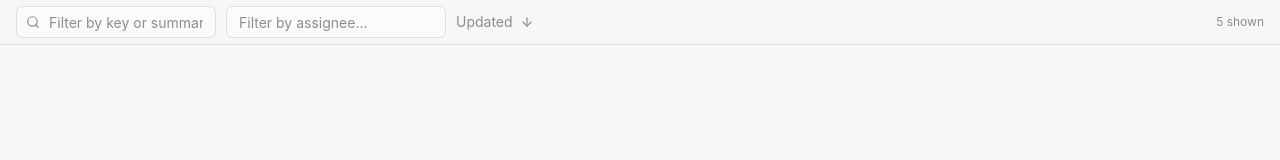
Test: TicketFilterBar — Assignee autocomplete › Escape key closes suggestions dropdown
This screenshot has width=1280, height=160.
Type "ali" into the dropdown with placeholder "Filter by assignee...".
click(336, 22); type("ali")  # box [226,6,446,38]
Wait 300 ms
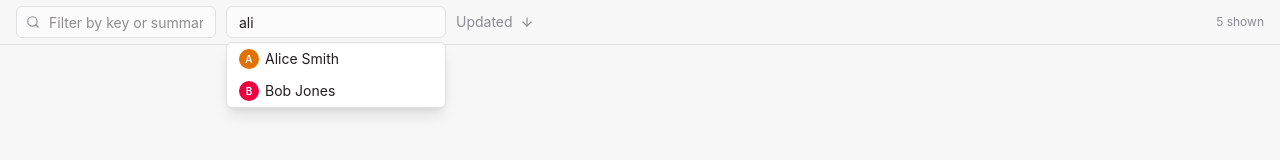
expect the list is shown: met, box [226,42,446,108]
Press Escape in the dropdown with placeholder "Filter by assignee...", box [226,6,446,38]
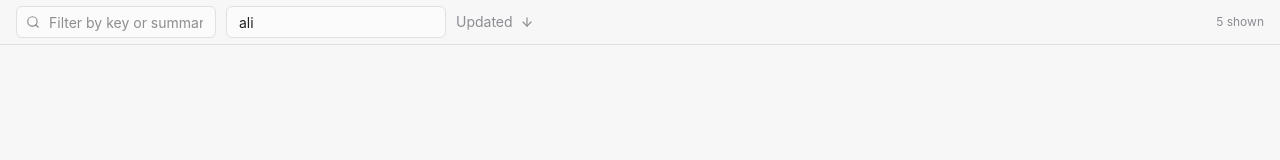
expect the list is gone: met
